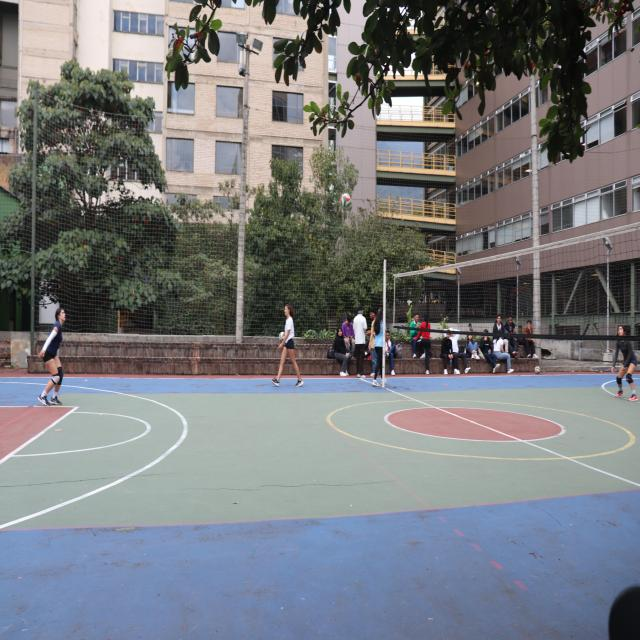volleyball: (341, 192, 351, 208), (279, 331, 286, 342), (534, 366, 540, 374)
